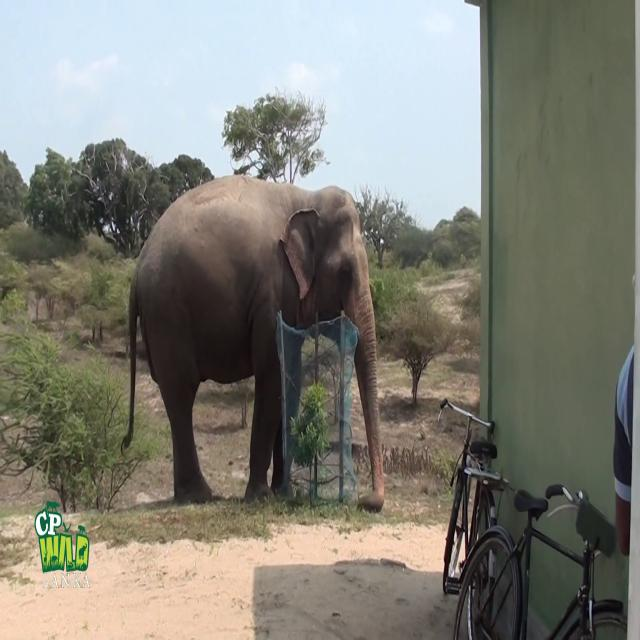Elephant: (121, 172, 385, 512)
